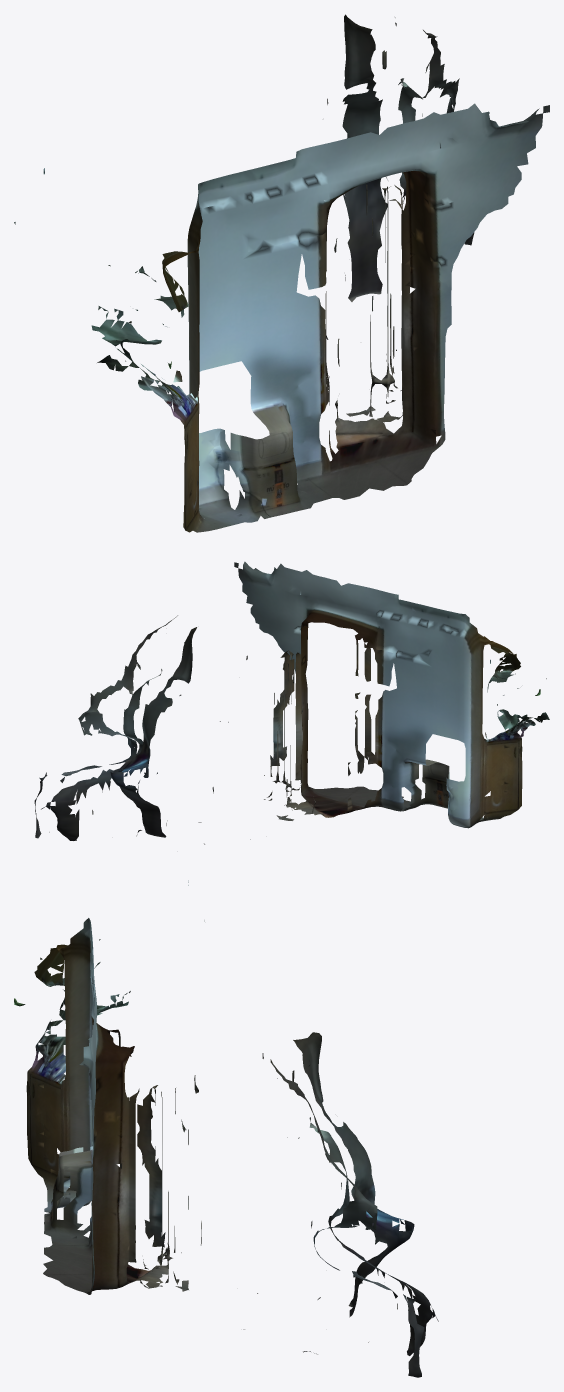
3 views of the same model, one above another, from view 1: azimuth 30°, elevation 25°; view 2: azimuth 150°, elevation 25°; view 3: azimuth 270°, elevation 25° (orthographic). The views are drawn at different scales.
Size of the model in its own units: 439 by 248 by 408.
Materials: 1 (1 with a texture image).
